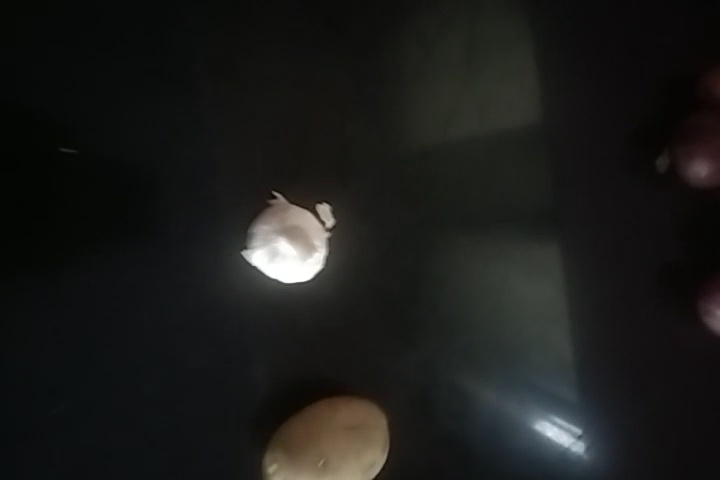garlic: (238, 193, 335, 285)
onion: (665, 109, 720, 191)
potato: (252, 384, 404, 480)
